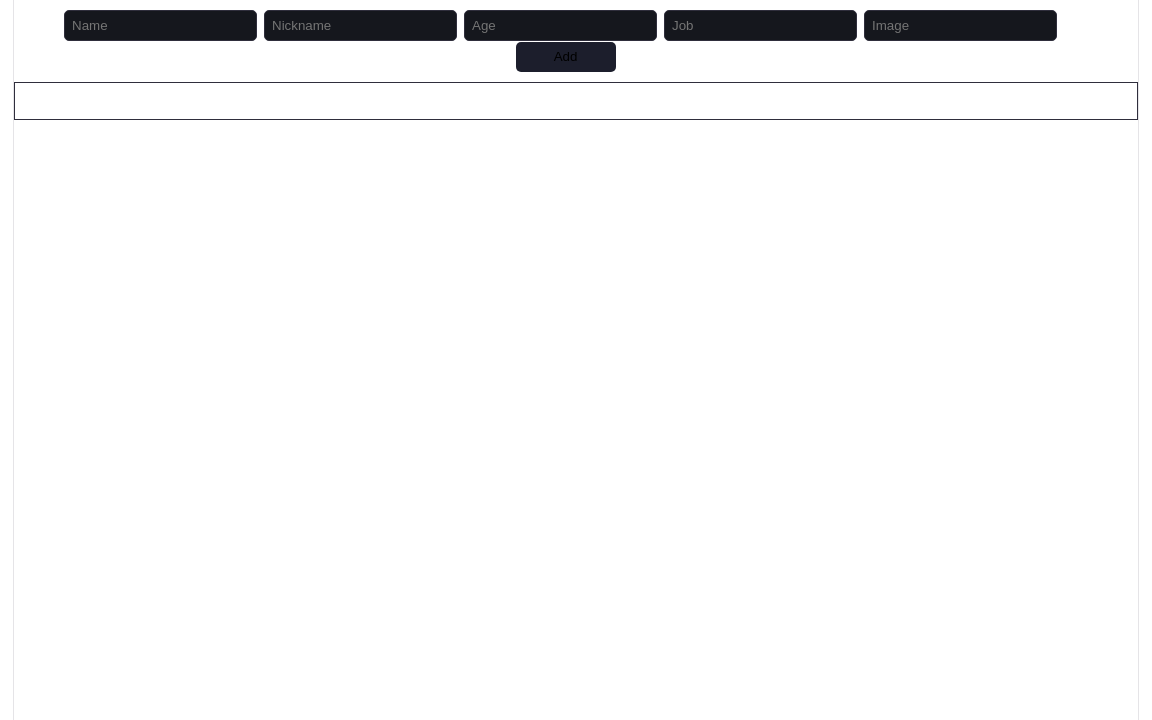
Test case: CharacterIndexTable › shows error if required fields are empty
Click the button "Add". click: (566, 56)
box: [516,42,616,72]
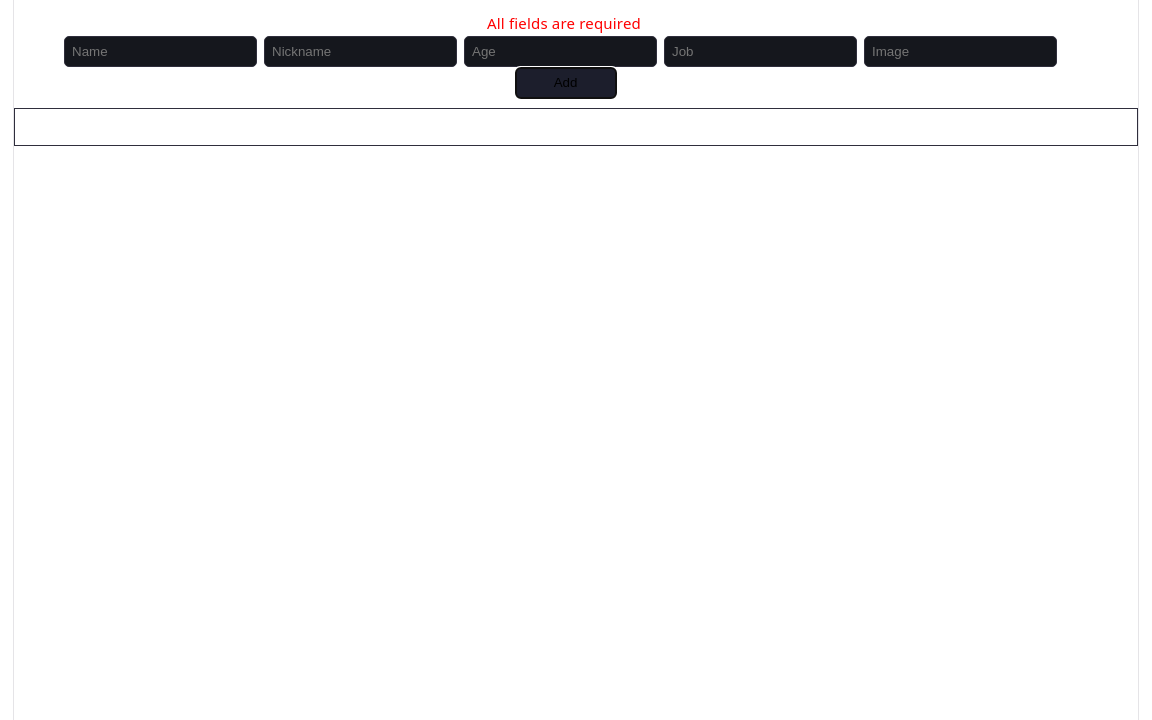
Result: the text "All fields are required" is shown at [487,13,641,33]
